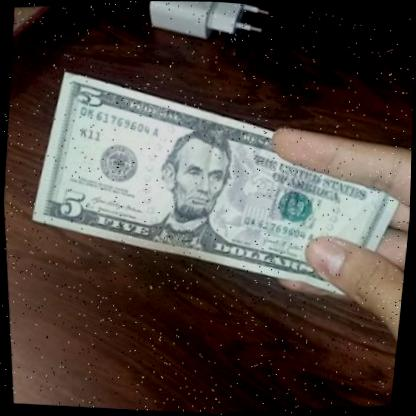five-front: (0, 25, 415, 330)
